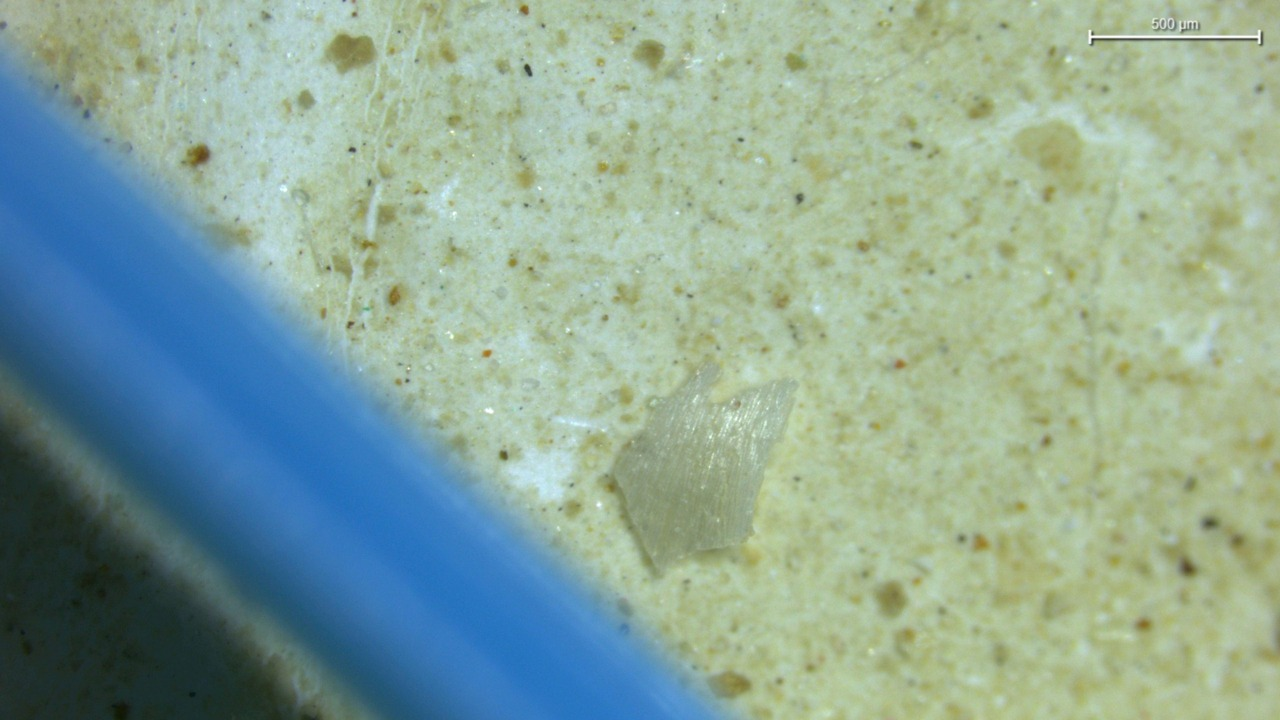microplastic_fragment: (612, 364, 798, 571)
